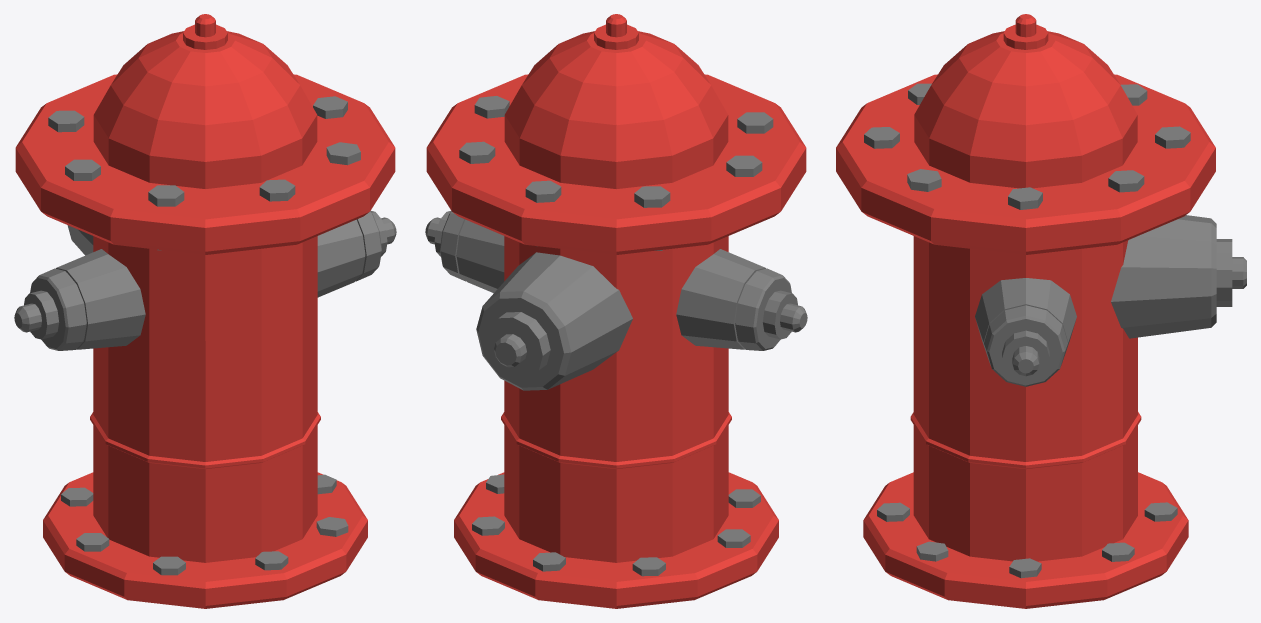
File: Fire_Hydrant.fbx
3 views of the same model, side by side, from view 1: azimuth 30°, elevation 25°; view 2: azimuth 150°, elevation 25°; view 3: azimuth 270°, elevation 25° (orthographic).
Visible parts, largest first — view 1: Fire Hydrant; view 2: Fire Hydrant; view 3: Fire Hydrant.
Part boxes in pixels (x1,y1,x2,y2): Fire Hydrant: (14, 14, 396, 608); Fire Hydrant: (425, 14, 807, 608); Fire Hydrant: (836, 14, 1246, 608).
Size of the model in its own units: 288 by 399 by 274.
